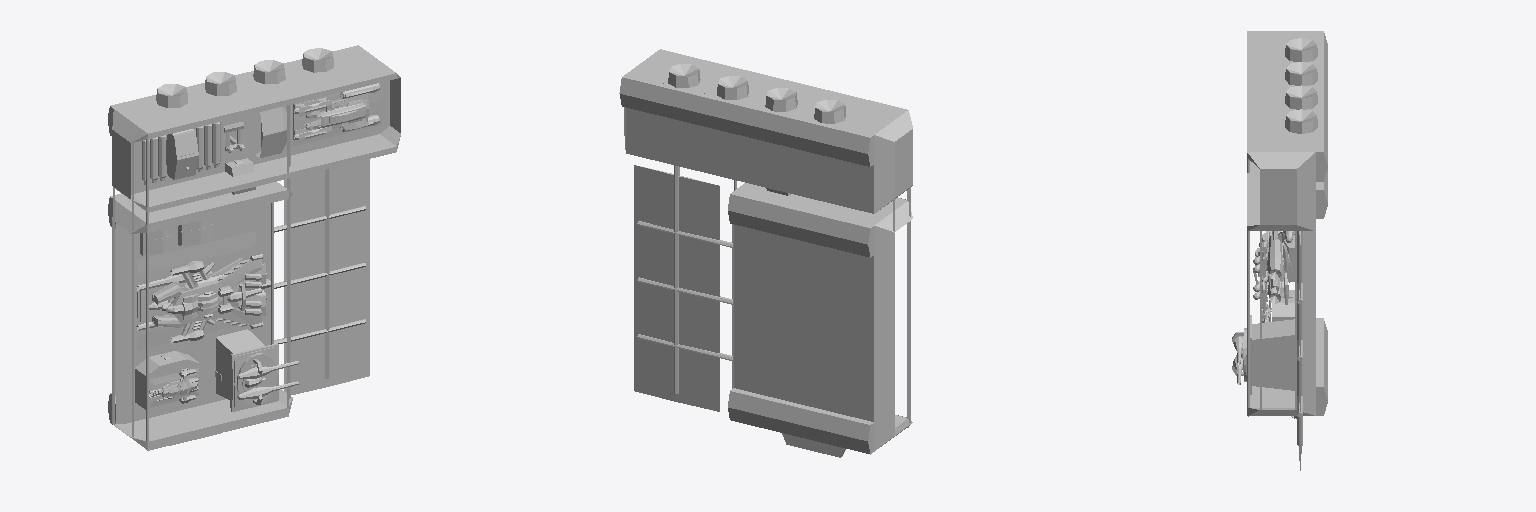
File: starblast-1547814537695.obj
The picture shows the model from 3 angles: view 1: azimuth 30°, elevation 25°; view 2: azimuth 150°, elevation 25°; view 3: azimuth 270°, elevation 25°; orthographic projection.
Size of the model in its own units: 5 by 6.22 by 1.55.